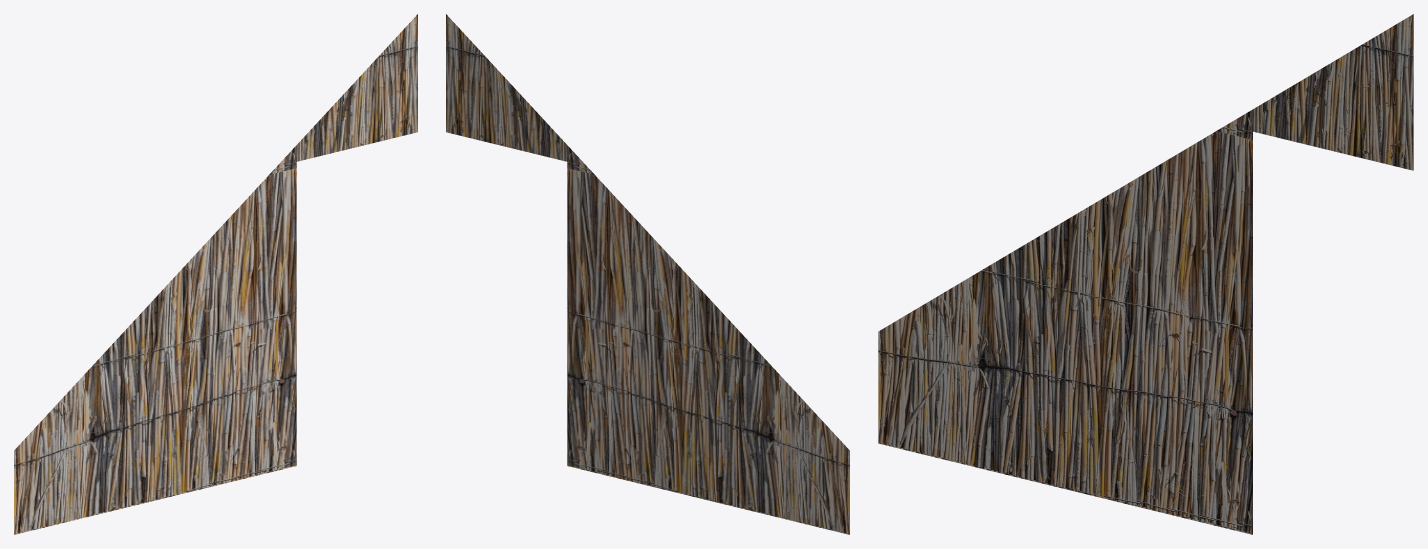
The model's file is HouseFrontWall2.fbx.
The picture shows the model from 3 angles, left to right: view 1: azimuth 30°, elevation 25°; view 2: azimuth 150°, elevation 25°; view 3: azimuth 330°, elevation 25°; orthographic projection. The views are drawn at different scales.
Parts seen in each view (by area): view 1: FrontWall2; view 2: FrontWall2; view 3: FrontWall2.
Boxes of the visible parts, x1,y1,x2,y2 form: FrontWall2: (14,14,417,534); FrontWall2: (446,14,849,534); FrontWall2: (878,14,1413,534).
Bounding box in the file's own units: 250 × 250 × 6.46e-05.
